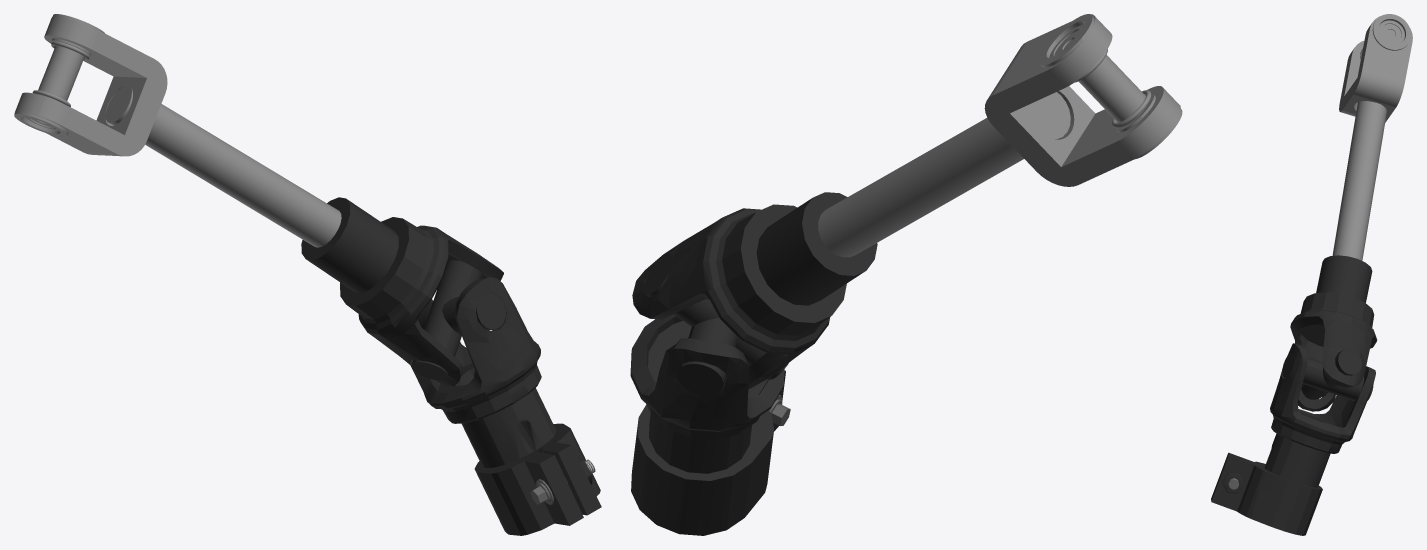
Rendered from E5_转向系统_转向万向节.FBX.
3 renders of one model, left to right at view 1: azimuth 30°, elevation 25°; view 2: azimuth 150°, elevation 25°; view 3: azimuth 270°, elevation 25°, orthographic. The views are drawn at different scales.
Parts seen in each view (by area): view 1: ZXWXJ; view 2: ZXWXJ; view 3: ZXWXJ.
Boxes of the visible parts, left/top/right/bottom form: ZXWXJ: left=14, top=14, right=601, bottom=535; ZXWXJ: left=630, top=14, right=1182, bottom=535; ZXWXJ: left=1211, top=14, right=1412, bottom=535.
Bounding box in the file's own units: 19.08 × 20.1 × 9.51.
